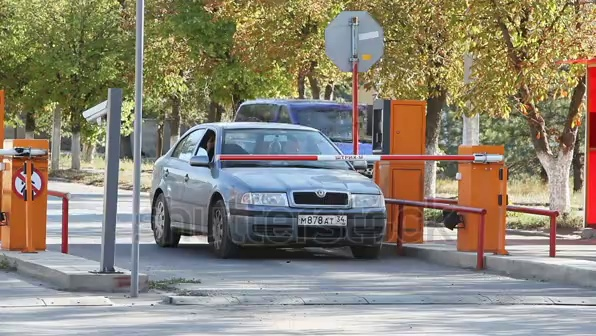licenseplate: (297, 212, 349, 229)
